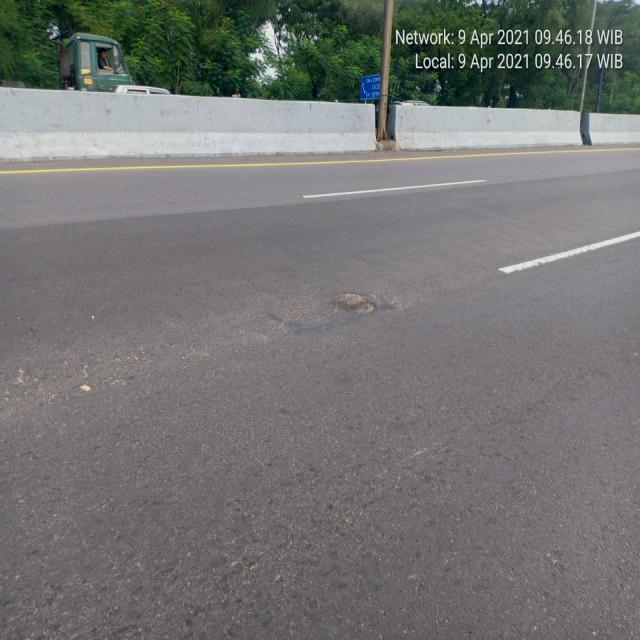Buraco: (326, 290, 379, 318)
